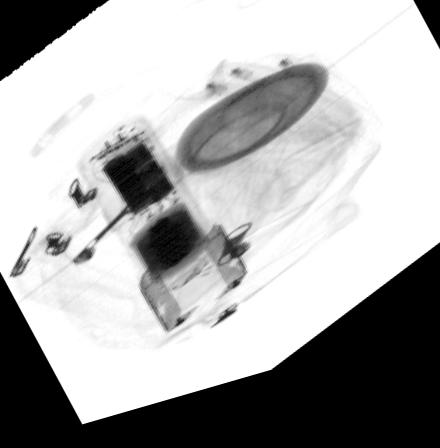Baton: (71, 122, 251, 345)
